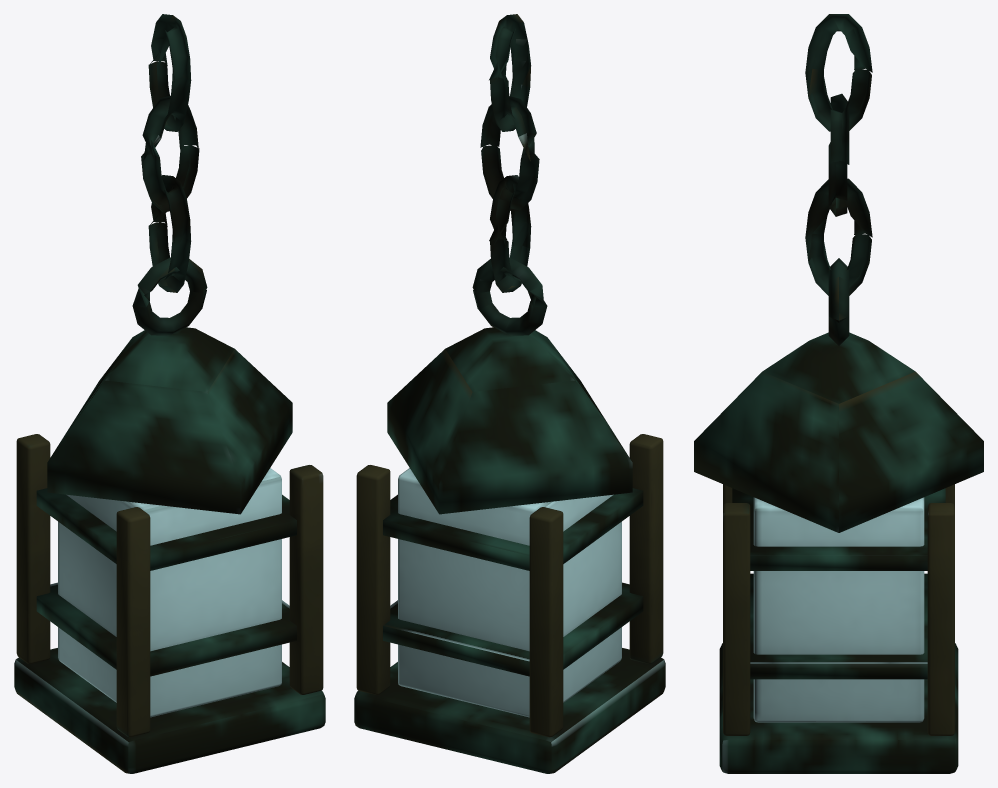
File: tide_lantern.obj
The picture shows the model from 3 angles, left to right: view 1: azimuth 30°, elevation 25°; view 2: azimuth 150°, elevation 25°; view 3: azimuth 270°, elevation 25°; orthographic projection. The views are drawn at different scales.
Visible parts, largest first — view 1: part0, fire, part2; view 2: part0, fire, part2; view 3: part0, fire, part2.
Boxes of the visible parts, box(x1,y1,x2,y2) form: part0: box(14, 14, 325, 773); fire: box(58, 468, 281, 717); part2: box(16, 434, 323, 737); part0: box(354, 14, 665, 773); fire: box(398, 468, 621, 717); part2: box(356, 434, 663, 737); part0: box(694, 14, 983, 773); fire: box(753, 497, 924, 722); part2: box(723, 484, 954, 735).
Bounding box in the file's own units: 0.34 × 0.9211 × 0.34.
